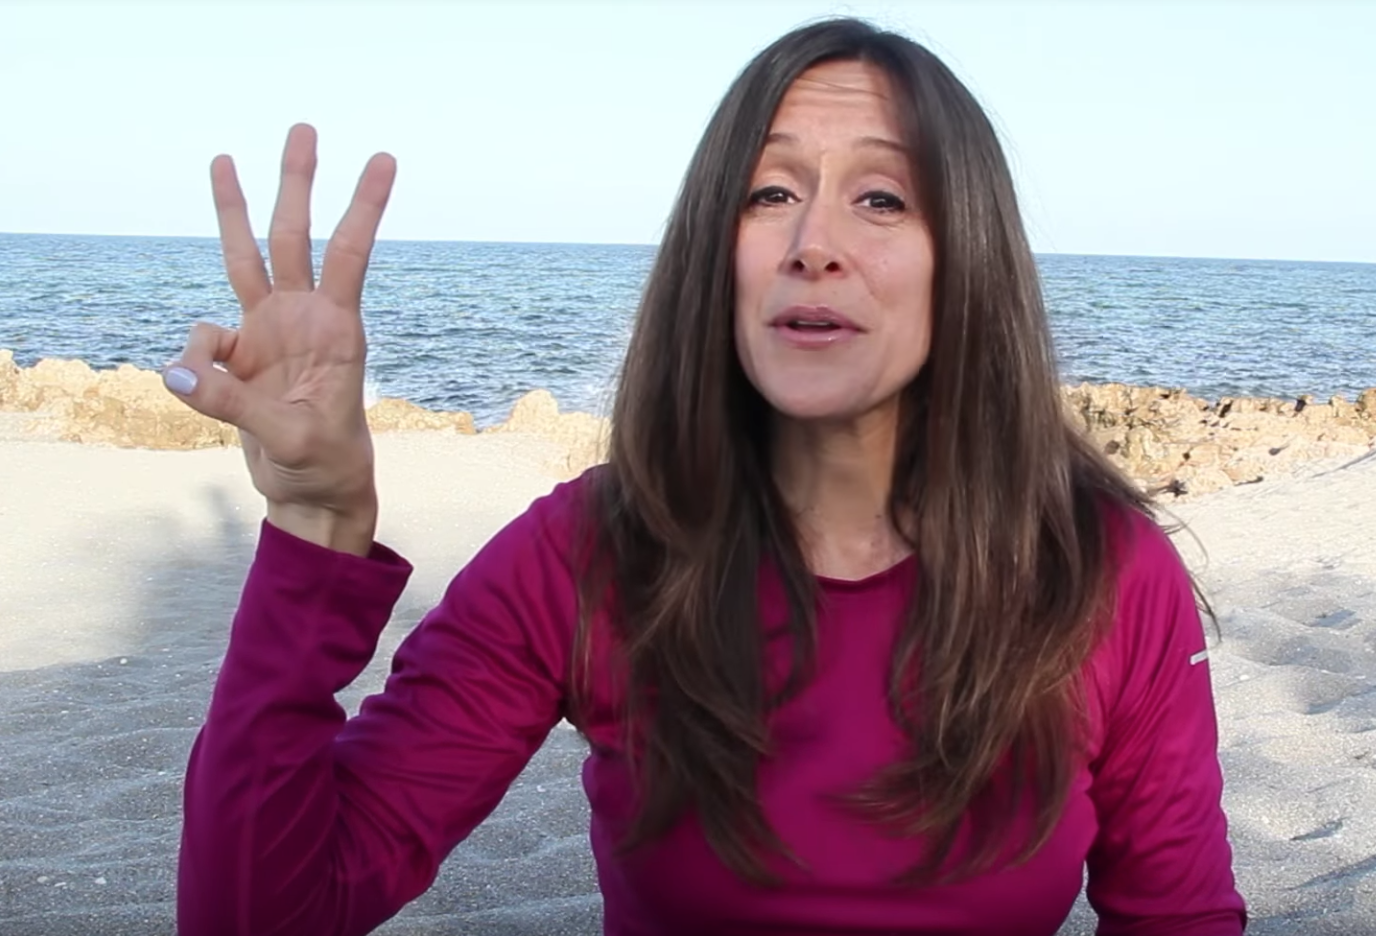w: (157, 117, 423, 575)
